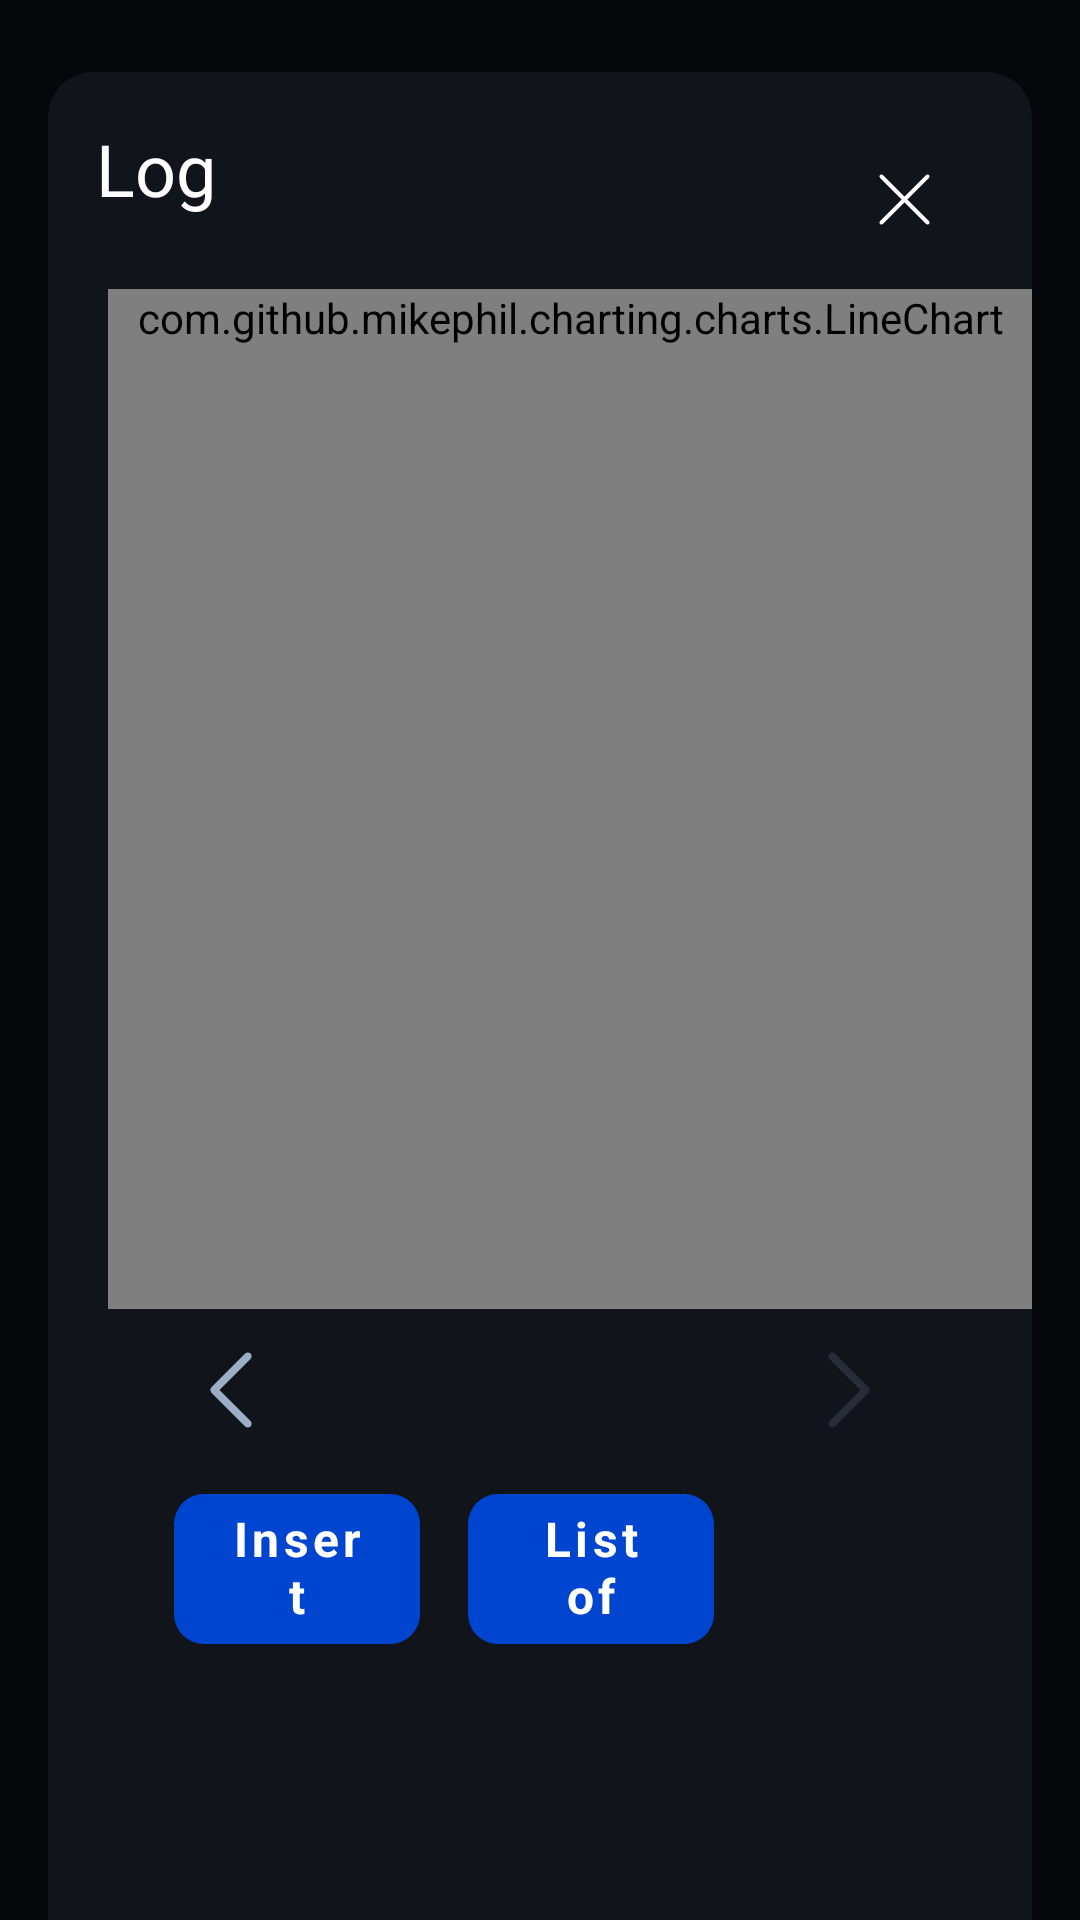

Screen size 1080 × 1920. Icon name, then its center in pixels as (x=x, y=y):
back left: (x=231, y=1390)
back right: (x=849, y=1390)
close: (x=904, y=199)
